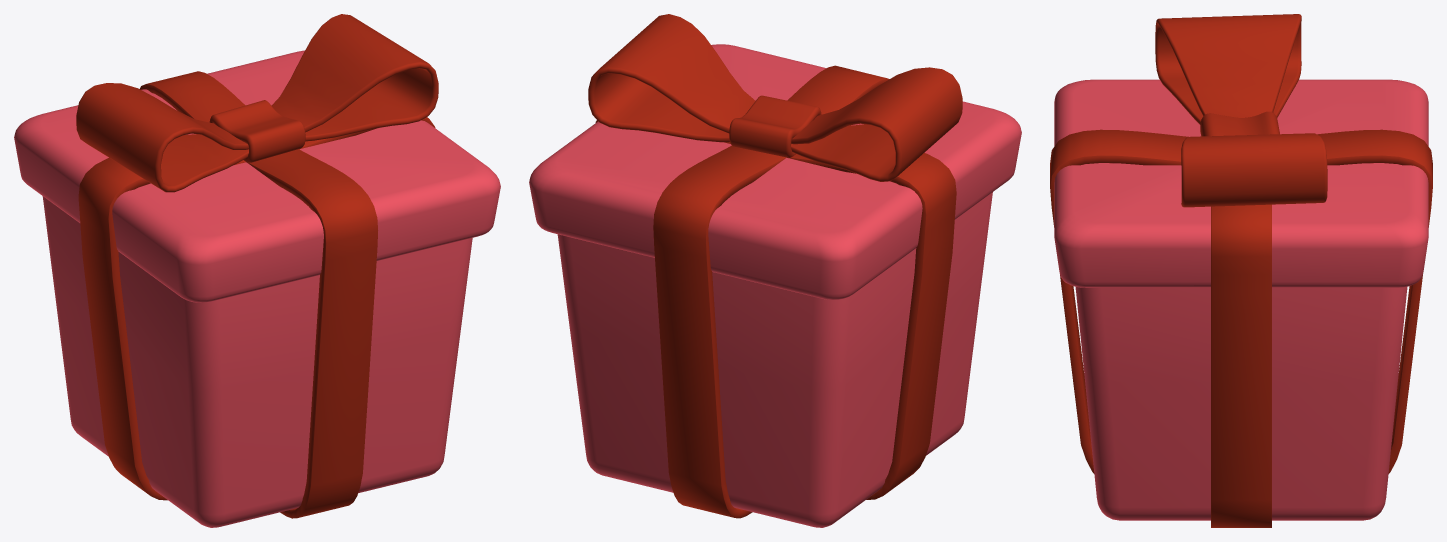
Rendered from Gift01.fbx.
3 views of the same model, side by side, from view 1: azimuth 30°, elevation 25°; view 2: azimuth 150°, elevation 25°; view 3: azimuth 270°, elevation 25° (orthographic).
Parts seen in each view (by area): view 1: Gift 01; view 2: Gift 01; view 3: Gift 01.
Boxes of the visible parts, box(x1,y1,x2,y2) form: Gift 01: box(14, 14, 500, 527); Gift 01: box(529, 14, 1021, 527); Gift 01: box(1050, 14, 1432, 527).
Size of the model in its own units: 225 by 260 by 225.
